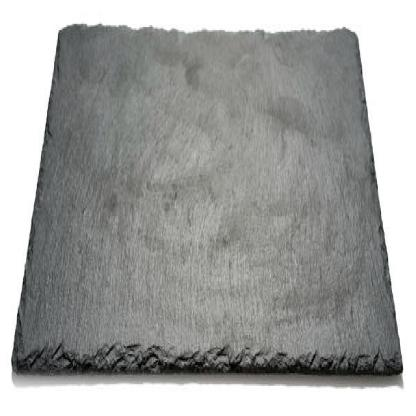Metamorphic_Marble: (8, 22, 406, 386)
